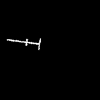double_crochet: (7, 39, 40, 48)
